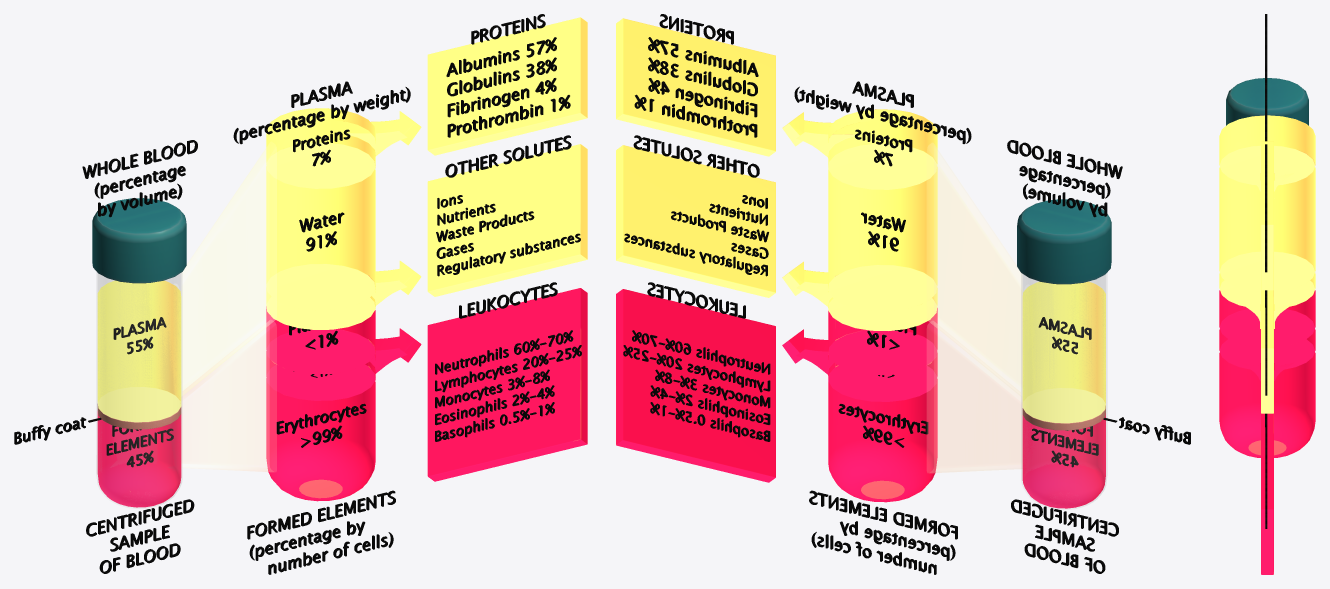
3 renders of one model, left to right at view 1: azimuth 30°, elevation 25°; view 2: azimuth 150°, elevation 25°; view 3: azimuth 270°, elevation 25°, orthographic. The views are drawn at different scales.
Visible parts, largest first — view 1: revers, Type, op, Glas, polySurface3; view 2: revers, Type, op, Glas, polySurface3; view 3: revers, polySurface3, Type.
Part boxes in pixels (bbox=[...]): revers: bbox=[97, 17, 587, 507]; Type: bbox=[14, 14, 581, 574]; op: bbox=[181, 142, 276, 471]; Glas: bbox=[96, 273, 181, 508]; polySurface3: bbox=[92, 198, 186, 429]; revers: bbox=[616, 18, 1105, 508]; Type: bbox=[623, 14, 1190, 574]; op: bbox=[927, 143, 1022, 472]; Glas: bbox=[1021, 273, 1106, 509]; polySurface3: bbox=[1017, 199, 1111, 430]; revers: bbox=[1219, 115, 1315, 574]; polySurface3: bbox=[1226, 78, 1308, 125]; Type: bbox=[1265, 14, 1267, 528].
Size of the model in its own units: 0.47 by 0.3904 by 0.0785.
Materials: 5 (3 with a texture image).
